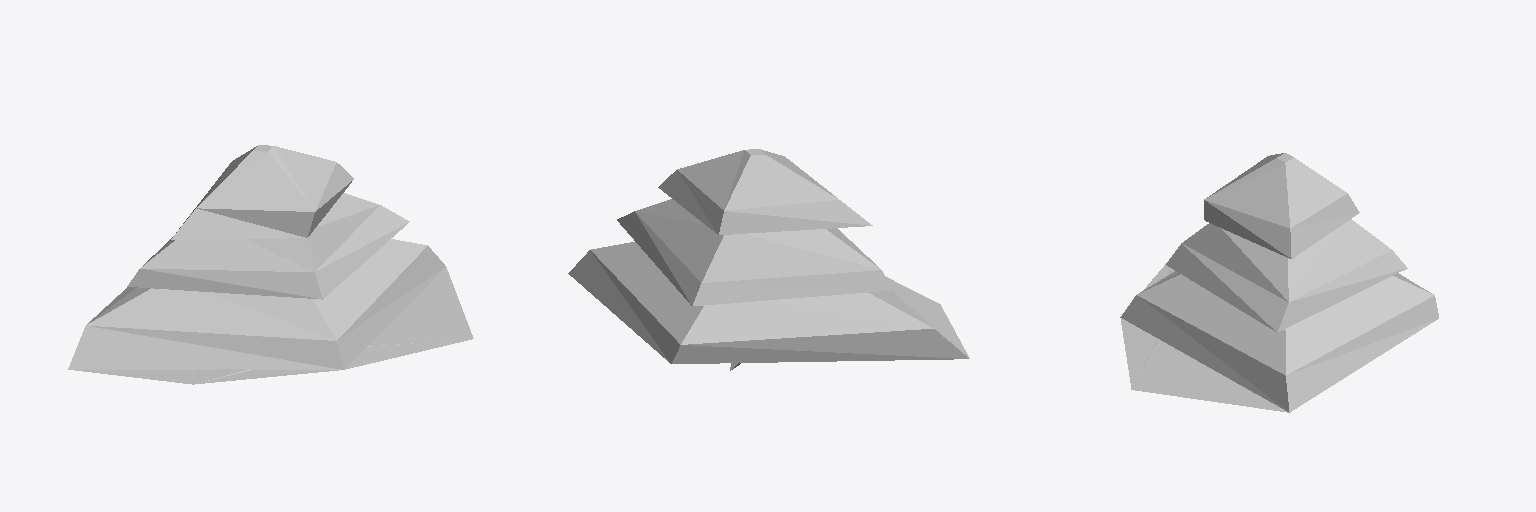
The model's file is tree_big.obj.
3 views of the same model, side by side, from view 1: azimuth 30°, elevation 25°; view 2: azimuth 150°, elevation 25°; view 3: azimuth 270°, elevation 25° (orthographic).
Visible parts, largest first — view 1: Cylinder_Cylinder.001; view 2: Cylinder_Cylinder.001; view 3: Cylinder_Cylinder.001.
Part boxes in pixels (x1,y1,x2,y2): Cylinder_Cylinder.001: (68,145,473,384); Cylinder_Cylinder.001: (568,149,969,370); Cylinder_Cylinder.001: (1120,153,1438,412).
Size of the model in its own units: 37.79 by 19.12 by 26.78.